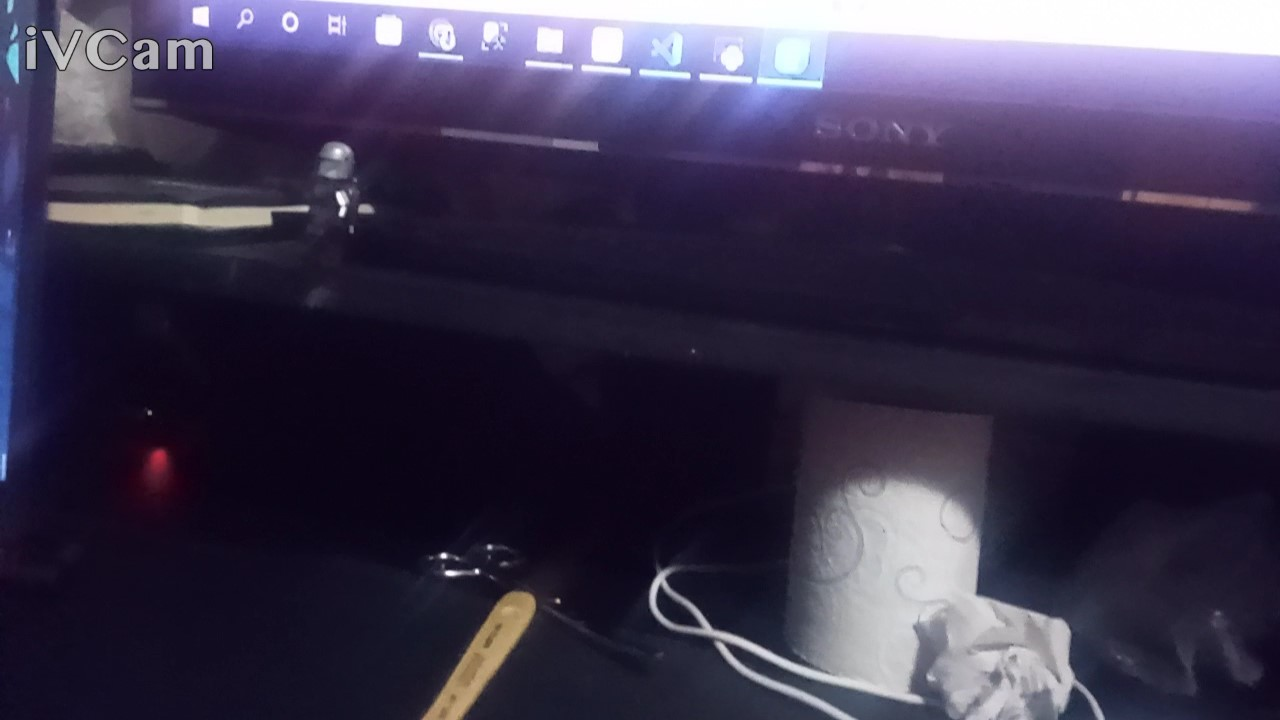mandalorian: (274, 128, 391, 282)
